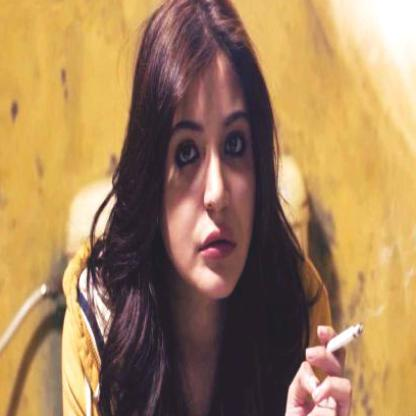cigarette: (326, 317, 365, 362)
person: (71, 0, 305, 415)
